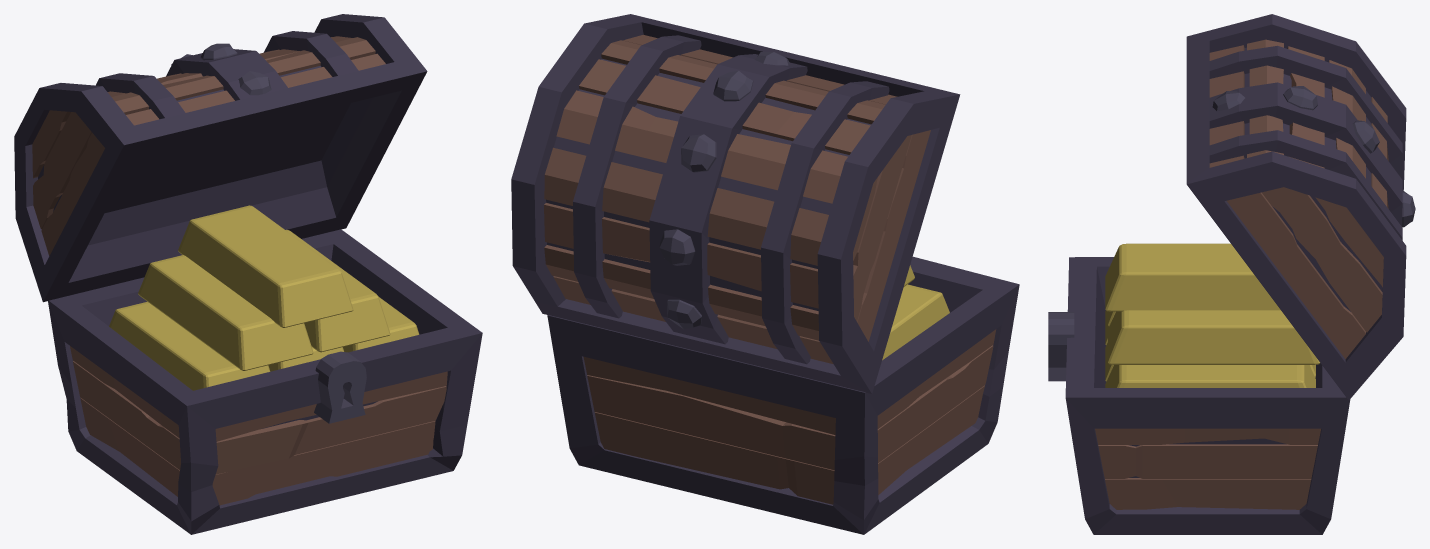
Rendered from Chest_Ingots.glb.
The picture shows the model from 3 angles, left to right: view 1: azimuth 30°, elevation 25°; view 2: azimuth 150°, elevation 25°; view 3: azimuth 270°, elevation 25°; orthographic projection. The views are drawn at different scales.
Parts seen in each view (by area): view 1: Chest_Ingots; view 2: Chest_Ingots; view 3: Chest_Ingots.
Part boxes in pixels (x1=…): Chest_Ingots: x1=14, y1=14, x2=482, y2=534; Chest_Ingots: x1=511, y1=14, x2=1019, y2=534; Chest_Ingots: x1=1048, y1=14, x2=1415, y2=534.
Size of the model in its own units: 0.9496 by 1.15 by 0.9962.
